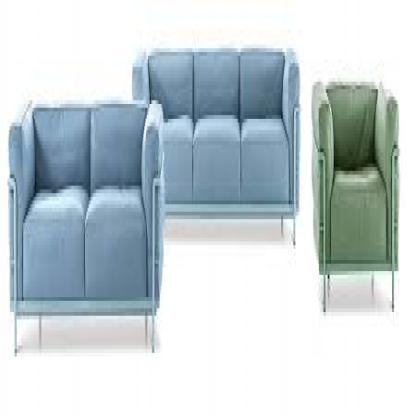sofa: (8, 100, 166, 353), (314, 59, 404, 342)
